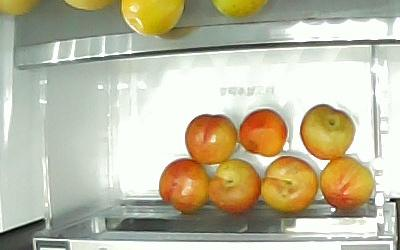prune: (259, 154, 319, 213), (206, 156, 261, 215), (299, 103, 356, 159), (157, 156, 210, 214), (318, 155, 374, 209), (184, 112, 237, 165), (238, 107, 287, 157)
